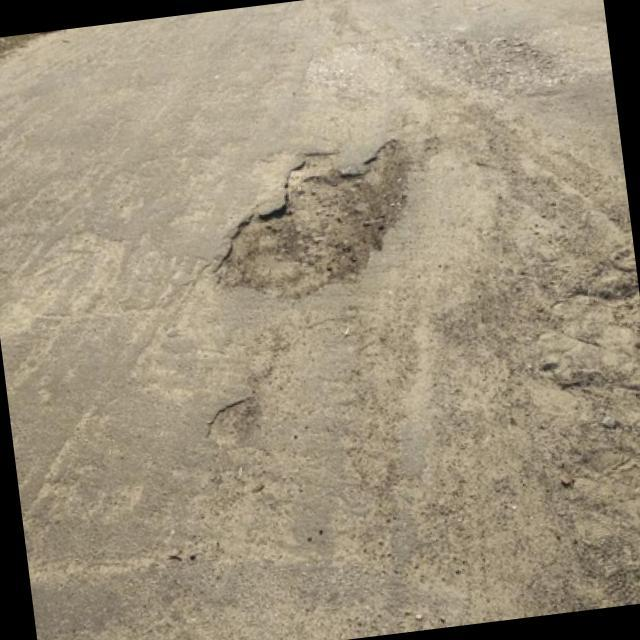Pothole: (224, 139, 409, 297)
